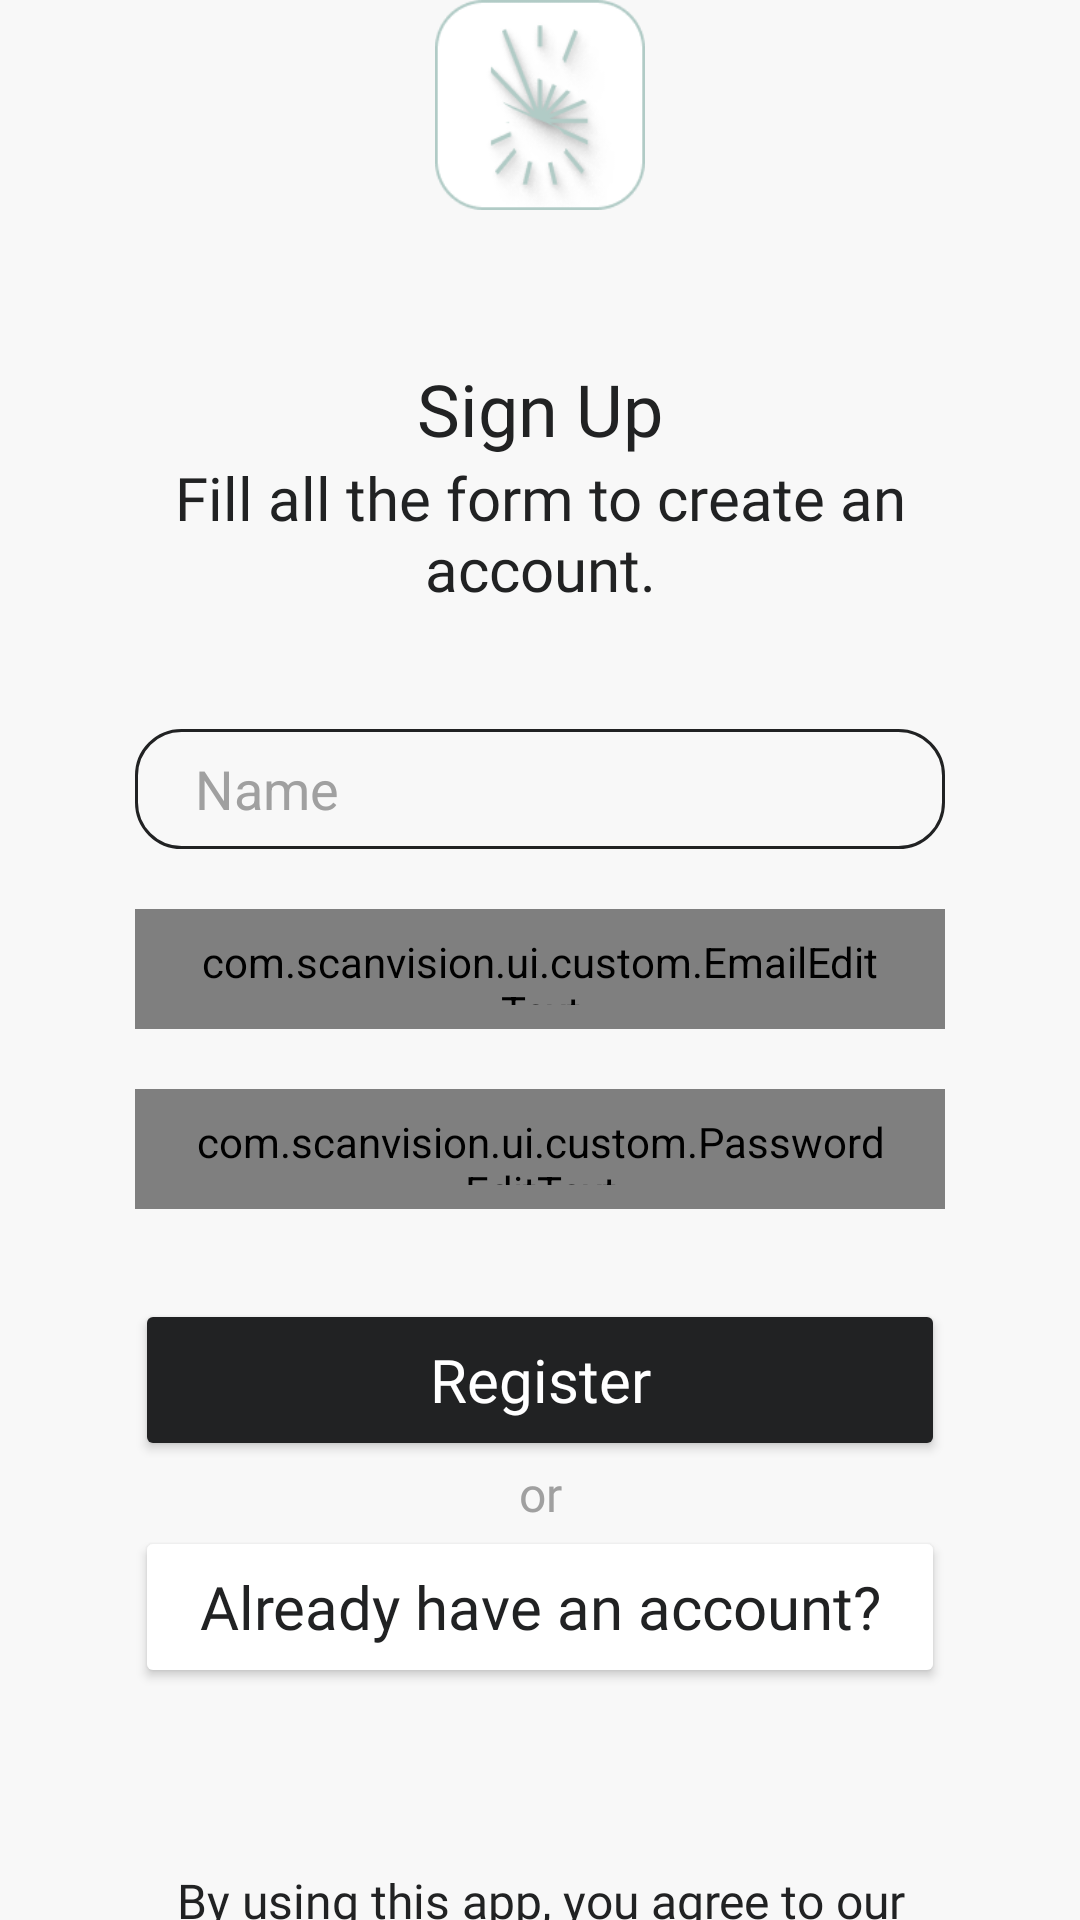

Icon bounding boxes for this 1080 × 1920 phone screenshot, format rect(x1, y1, x2, y2):
app: rect(435, 0, 645, 210)
